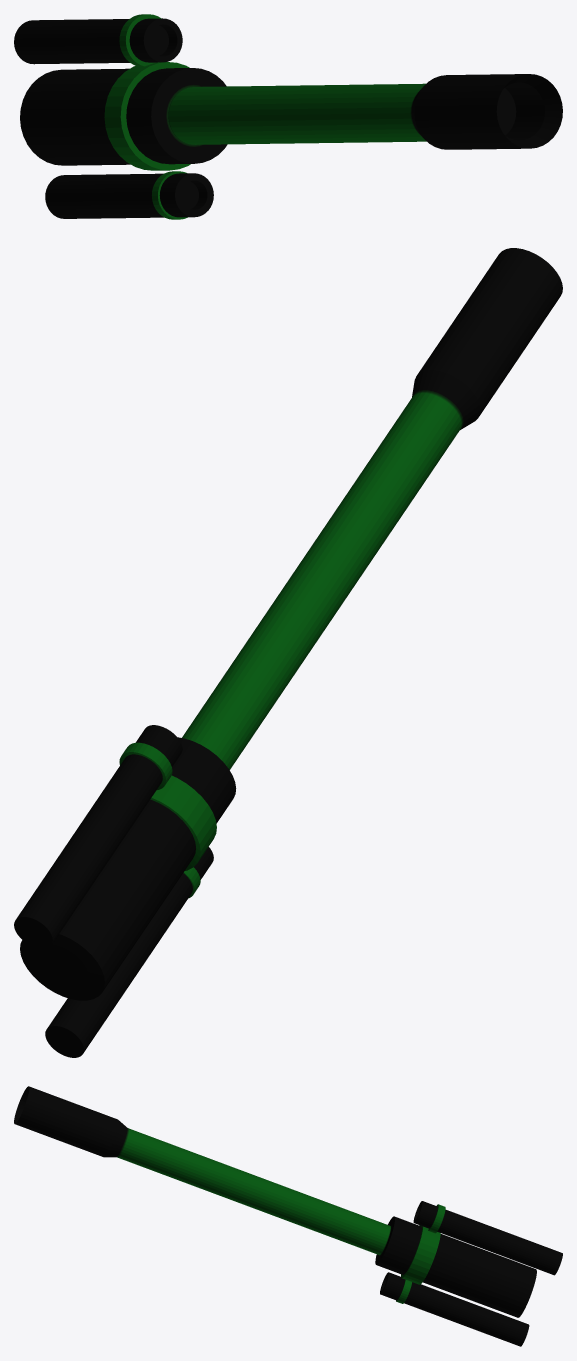
The picture shows the model from 3 angles, top to bottom: view 1: azimuth 30°, elevation 25°; view 2: azimuth 150°, elevation 25°; view 3: azimuth 270°, elevation 25°; orthographic projection. The views are drawn at different scales.
Visible parts, largest first — view 1: 对象001; view 2: 对象001; view 3: 对象001.
Boxes of the visible parts, x1,y1,x2,y2 form: 对象001: (14,14,562,219); 对象001: (14,248,562,1057); 对象001: (14,1086,562,1346).
Bounding box in the file's own units: 2.31 × 11.15 × 21.57.
